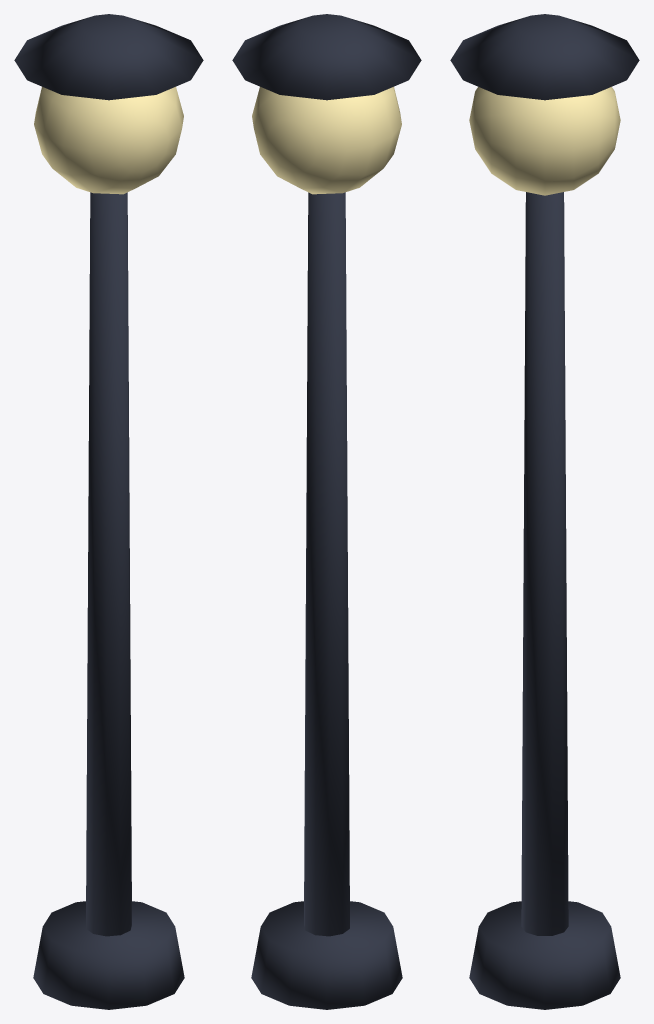
File: LampPost.fbx
3 views of the same model, side by side, from view 1: azimuth 30°, elevation 25°; view 2: azimuth 150°, elevation 25°; view 3: azimuth 270°, elevation 25° (orthographic).
Visible parts, largest first — view 1: LampPost; view 2: LampPost; view 3: LampPost.
Boxes of the visible parts, x1,y1,x2,y2 form: LampPost: (14, 14, 203, 1009); LampPost: (232, 14, 421, 1009); LampPost: (450, 14, 639, 1009).
Bounding box in the file's own units: 2 × 11.1 × 2.
Materials: 1 (1 with a texture image).
